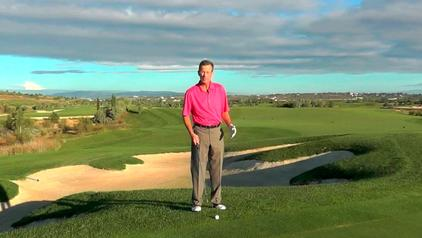stay: (185, 56, 229, 205)
